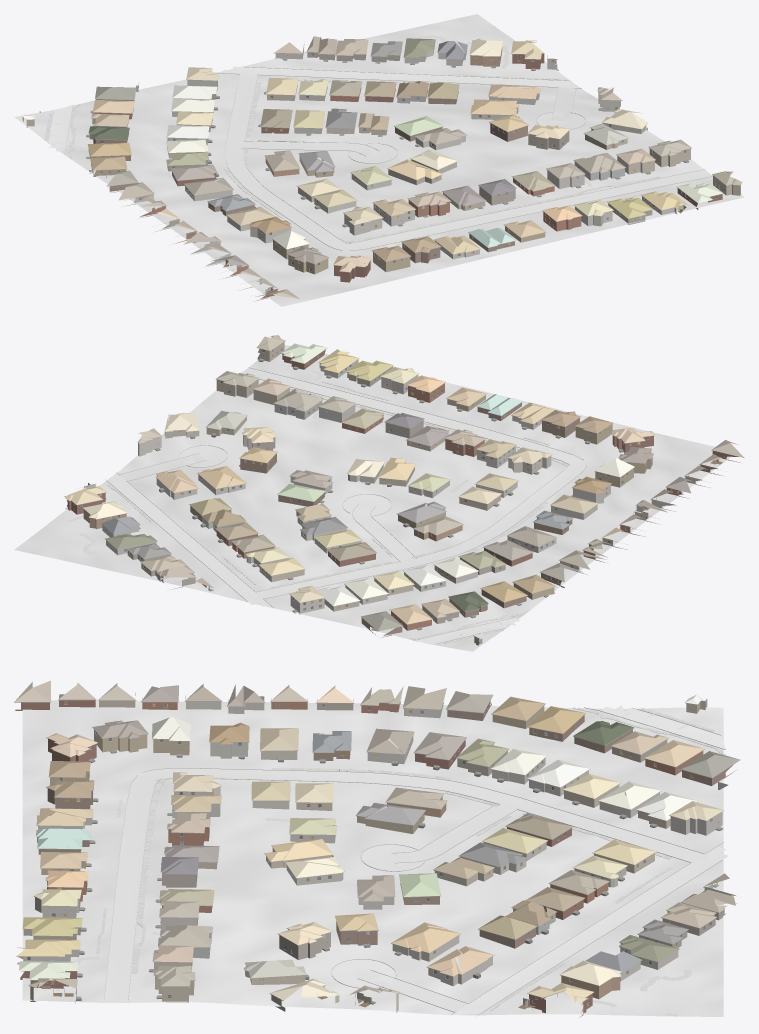
3 views of the same model, one above another, from view 1: azimuth 30°, elevation 25°; view 2: azimuth 150°, elevation 25°; view 3: azimuth 270°, elevation 25° (orthographic). The views are drawn at different scales.
Parts seen in each view (by area): view 1: ground, roof, wall, concrete, detail, wall_stone, wall_stucco, curb, walk, asphalt, glass; view 2: ground, roof, wall, concrete, detail, wall_stone, wall_stucco, curb, asphalt, walk, glass; view 3: ground, roof, concrete, wall, wall_stone, detail, wall_stucco, asphalt, walk, curb, glass, room.
Boxes of the visible parts, x1,y1,x2,y2 form: ground: (14, 14, 744, 306); roof: (22, 36, 742, 299); wall: (26, 47, 741, 301); concrete: (48, 71, 712, 250); detail: (28, 44, 740, 296); wall_stone: (123, 46, 677, 267); wall_stucco: (177, 44, 654, 254); curb: (48, 66, 712, 250); walk: (44, 26, 659, 244); asphalt: (223, 66, 580, 87); glass: (100, 53, 724, 271); ground: (14, 345, 731, 651); roof: (64, 335, 744, 638); wall: (65, 342, 740, 645); concrete: (112, 368, 586, 644); detail: (67, 340, 733, 637); wall_stone: (84, 354, 676, 614); wall_stucco: (138, 388, 659, 595); curb: (105, 367, 586, 644); asphalt: (108, 473, 269, 606); walk: (31, 370, 569, 643); glass: (73, 348, 725, 615); ground: (22, 700, 723, 1016); roof: (14, 680, 740, 1003); concrete: (104, 705, 725, 1015); wall: (15, 692, 735, 1017); wall_stone: (17, 695, 727, 986); detail: (14, 695, 731, 1011); wall_stucco: (154, 701, 736, 1012); asphalt: (451, 846, 728, 1015); walk: (74, 707, 723, 1016); curb: (103, 707, 725, 1016); glass: (27, 702, 711, 1005); room: (18, 694, 725, 1009).
Bounding box in the file's own units: 264 × 17.95 × 261.
